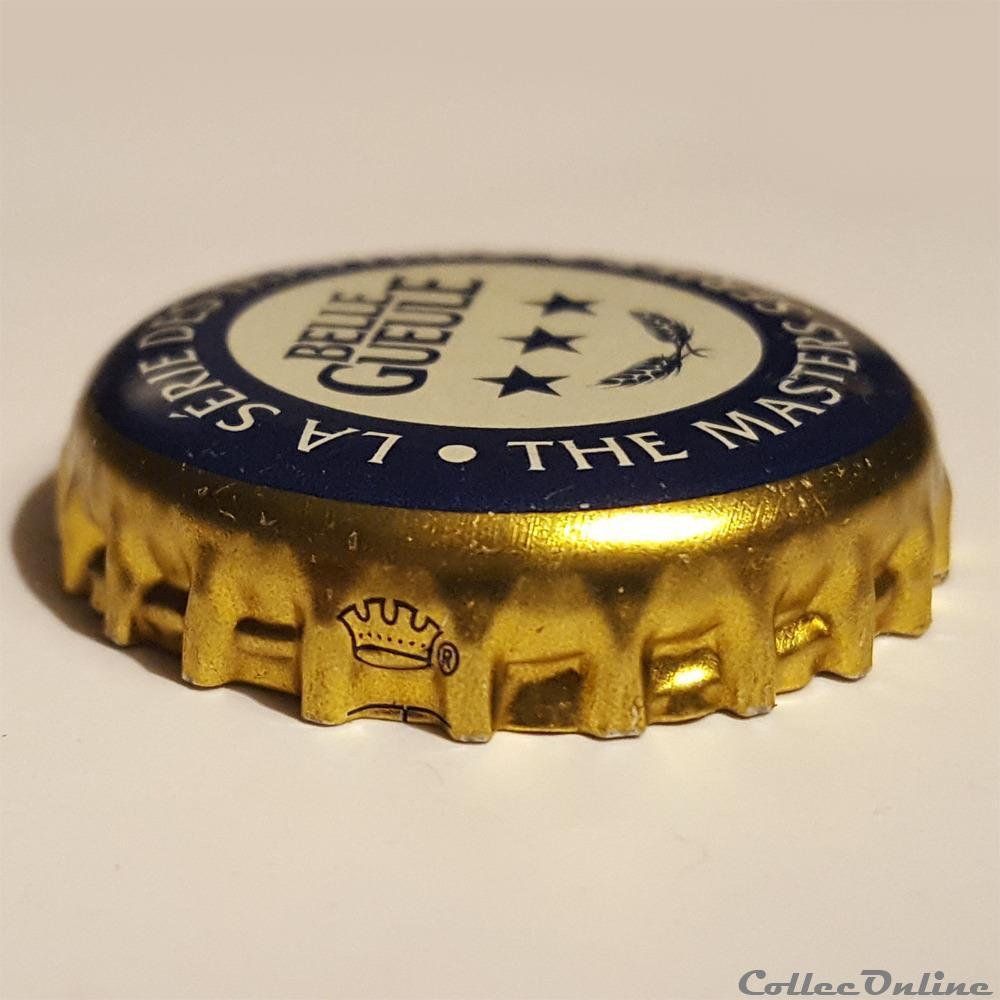metal: (56, 254, 953, 742)
